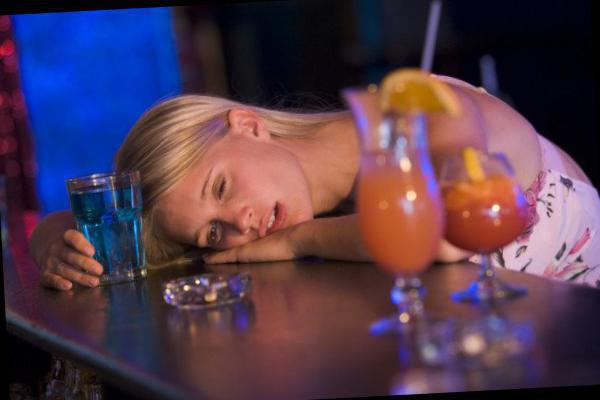Drunk: (156, 157, 311, 243)
